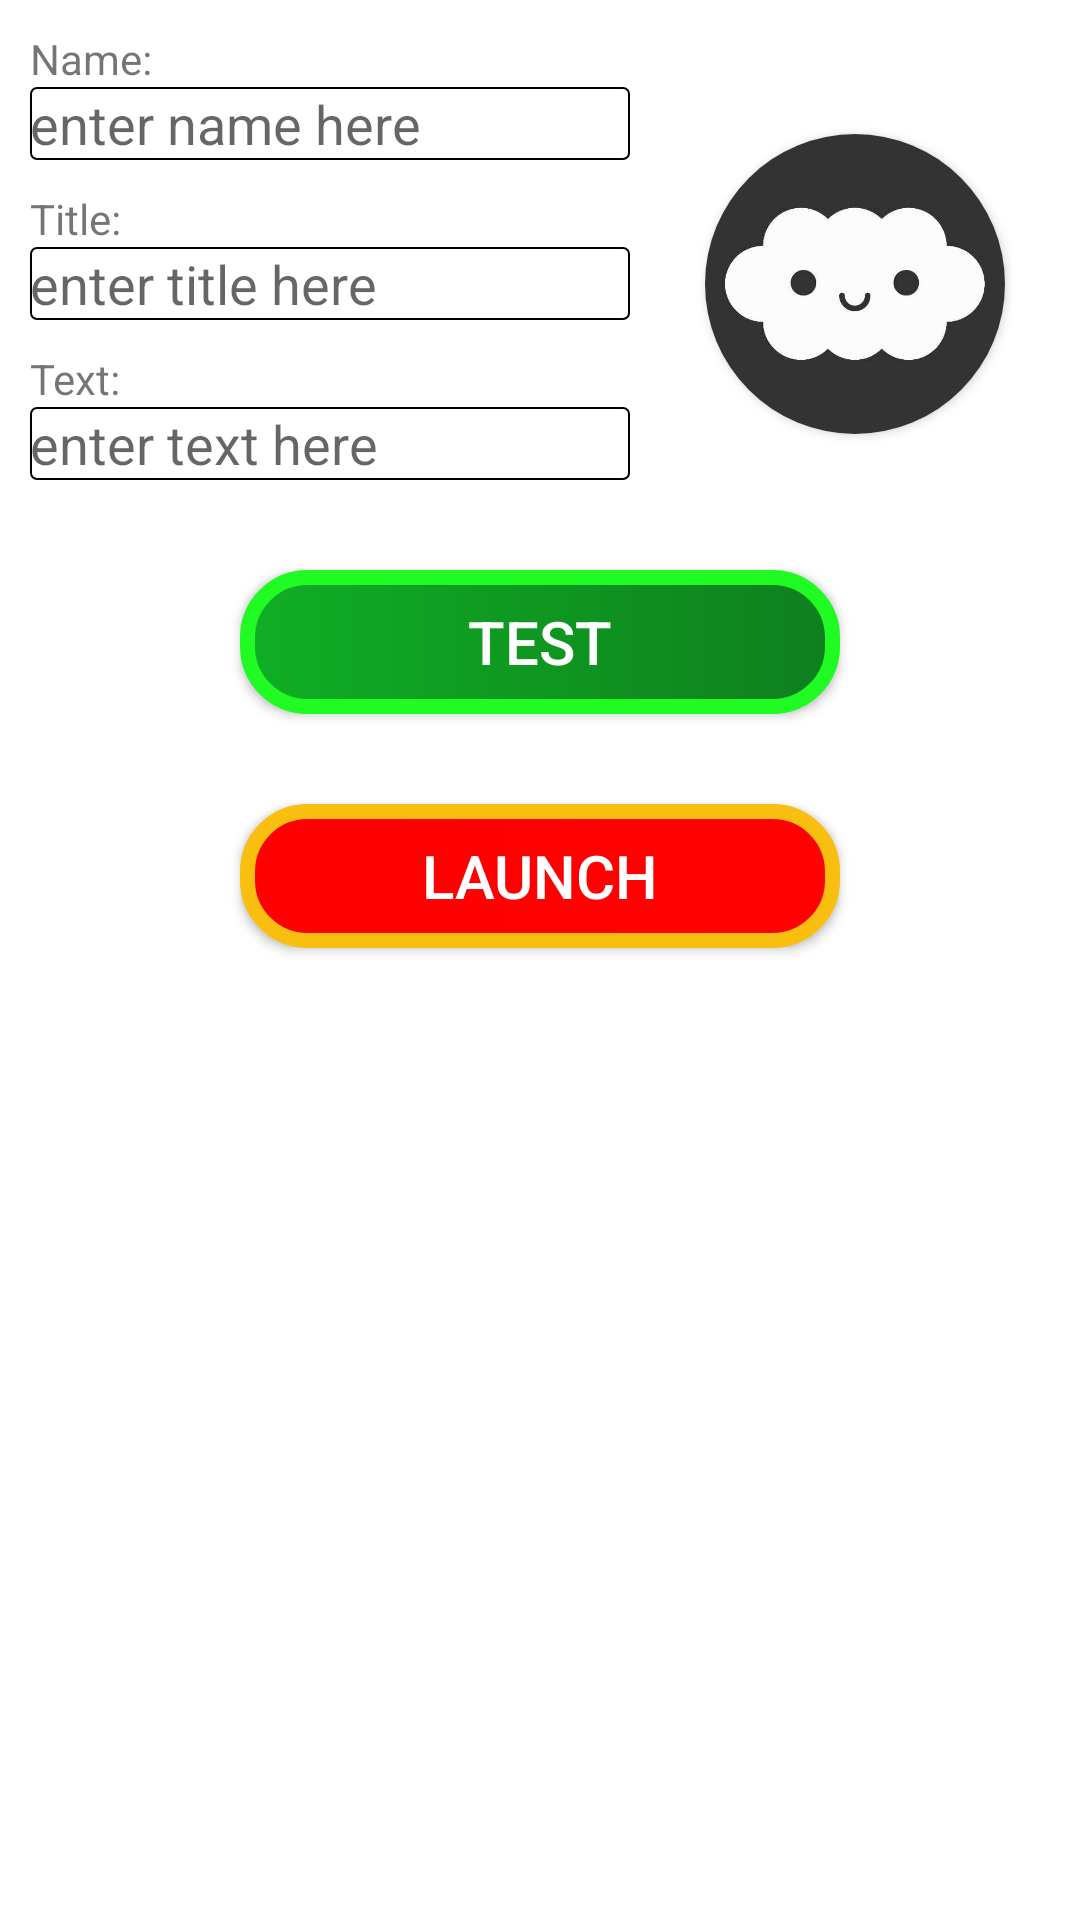

Named icons in this screenshot (1080x1920) and their centers, point (x, y):
cloud: point (855, 284)
